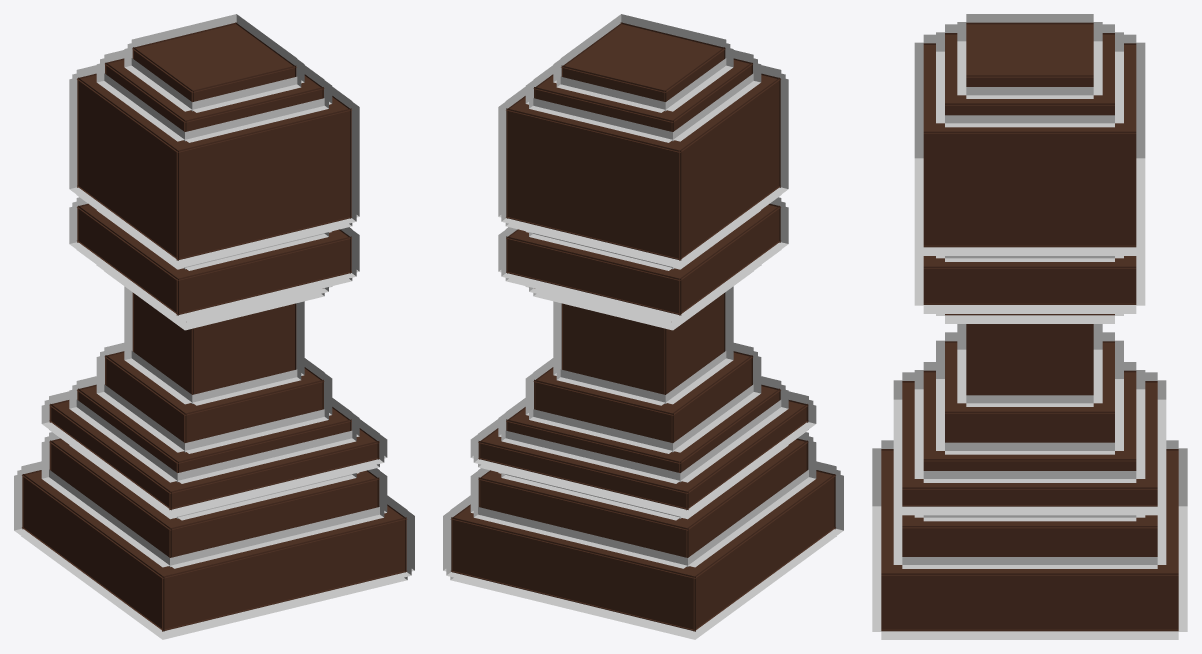
File: brown-pawn.glb
The picture shows the model from 3 angles, left to right: view 1: azimuth 30°, elevation 25°; view 2: azimuth 150°, elevation 25°; view 3: azimuth 270°, elevation 25°; orthographic projection. The views are drawn at different scales.
Visible parts, largest first — view 1: chess-pawn-brown_model; view 2: chess-pawn-brown_model; view 3: chess-pawn-brown_model.
Boxes of the visible parts, box(x1,y1,x2,y2) form: chess-pawn-brown_model: box(14, 14, 414, 639); chess-pawn-brown_model: box(443, 14, 843, 639); chess-pawn-brown_model: box(872, 14, 1187, 639).
Bounding box in the file's own units: 1.48 × 2.78 × 1.48.
Materials: 2 (1 with a texture image).
